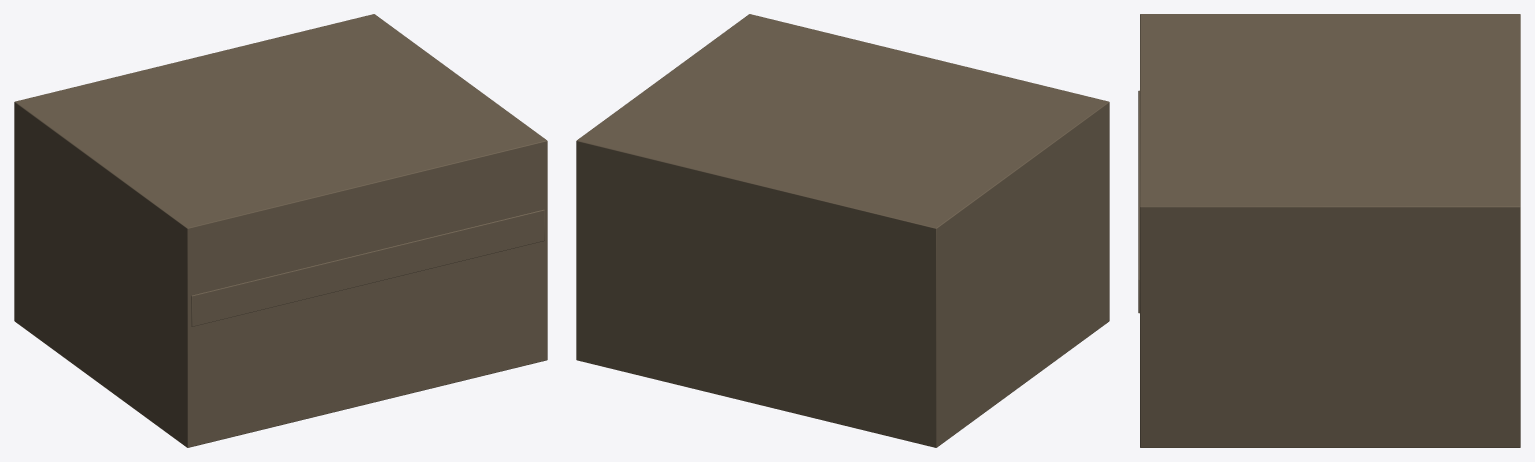
3 renders of one model, left to right at view 1: azimuth 30°, elevation 25°; view 2: azimuth 150°, elevation 25°; view 3: azimuth 270°, elevation 25°, orthographic. The views are drawn at different scales.
Parts seen in each view (by area): view 1: SM_F_Box_A__Body; view 2: SM_F_Box_A__Body; view 3: SM_F_Box_A__Body.
Part boxes in pixels (x1,y1,x2,y2): SM_F_Box_A__Body: (14, 14, 547, 447); SM_F_Box_A__Body: (576, 14, 1109, 447); SM_F_Box_A__Body: (1138, 14, 1520, 447).
Bounding box in the file's own units: 0.6 × 0.35 × 0.502.
